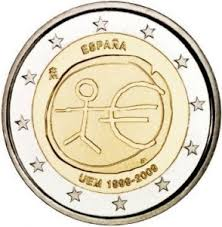eur002: (1, 1, 221, 227)
